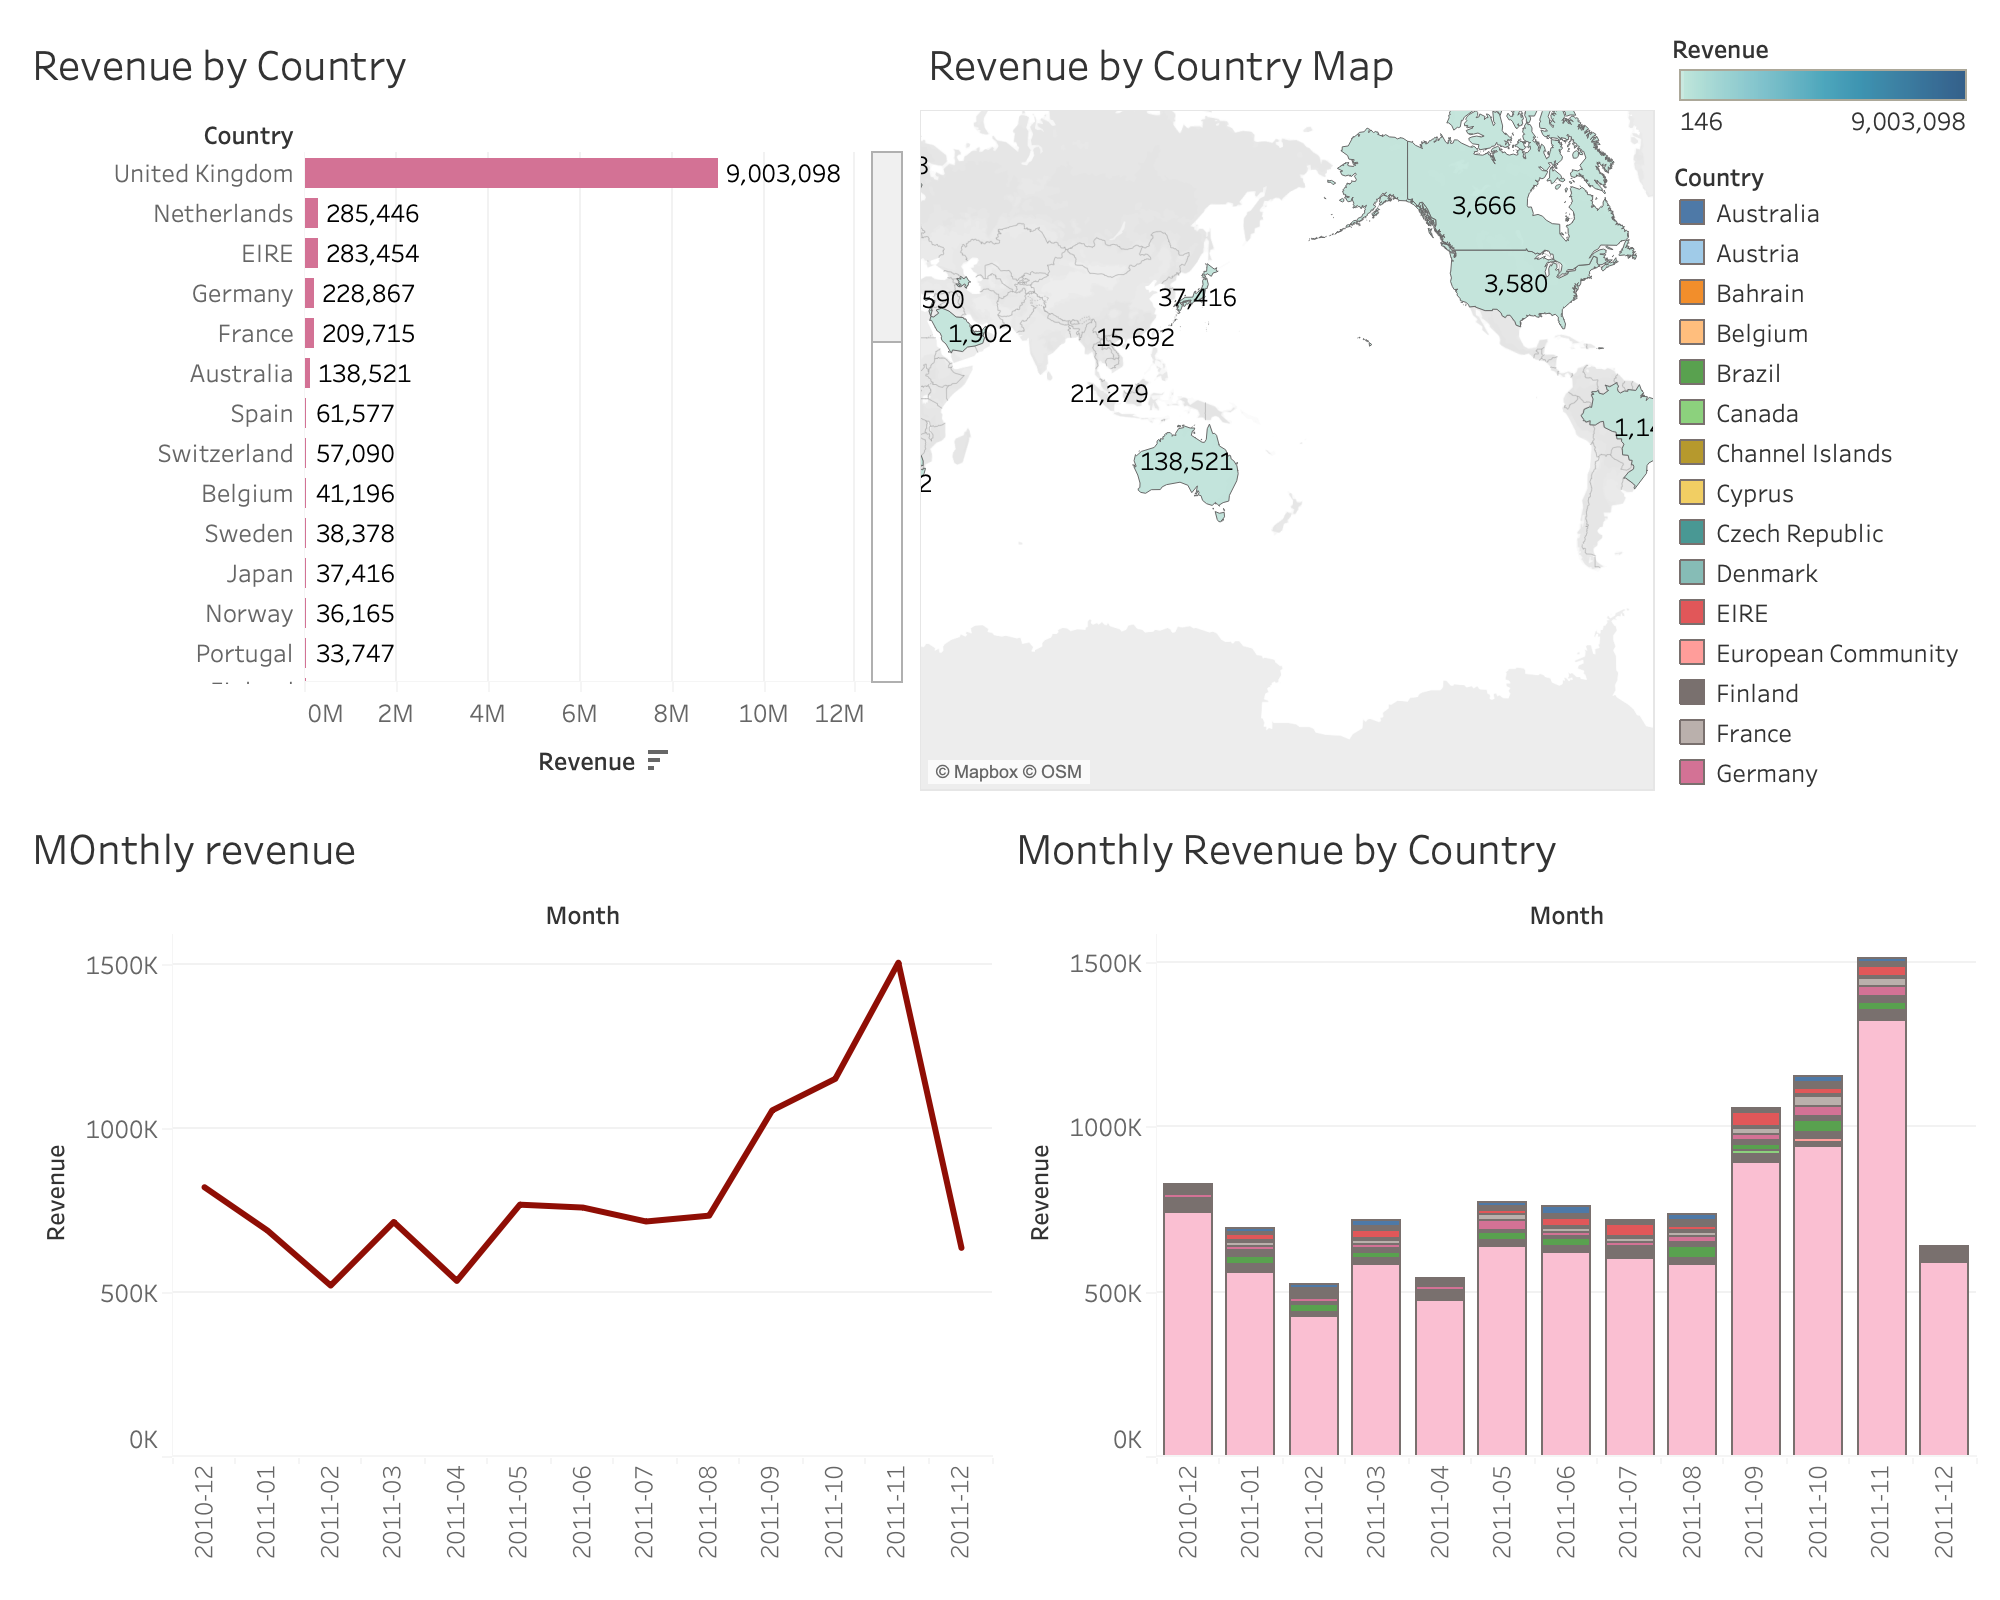

This screenshot's page, from the dashboard's own definition file:
{"tool":"tableau","page":{"name":"Geographic Dashboard","canvas":[1000,800],"ordinal":0},"visuals":[{"type":"worksheet","title":"Revenue by Country","mark":"Automatic","rows":["Country"],"cols":["Revenue"],"box":[8,8,448,392]},{"type":"worksheet","title":"Revenue by Country Map","mark":"Automatic","box":[456,8,376,392]},{"type":"legend","title":"Revenue by Country Map","param":"[federated.1vjwjip0q28ymd10cvqnw0tj5vmx].[sum:Revenue:qk]","box":[832,8,160,65]},{"type":"legend","title":"Monthly Revenue by Country","param":"[federated.1vjwjip0q28ymd10cvqnw0tj5vmx].[none:Country:nk]","box":[832,73,160,327]},{"type":"worksheet","title":"MOnthly revenue","mark":"Line","rows":["Revenue"],"cols":["Month"],"box":[8,400,492,392]},{"type":"worksheet","title":"Monthly Revenue by Country","mark":"Automatic","rows":["Revenue"],"cols":["Month"],"box":[500,400,492,392]}]}

Visuals, with their boxes in screenshot pixels (x1, y1, x2, y2), scaled from the page's 1000x800 canvas onto the 2000x1600 screenshot:
"Revenue by Country" worksheet: 16,16,912,800
"Revenue by Country Map" worksheet: 912,16,1664,800
"Revenue by Country Map" legend: 1664,16,1984,146
"Monthly Revenue by Country" legend: 1664,146,1984,800
"MOnthly revenue" worksheet (Line marks): 16,800,1000,1584
"Monthly Revenue by Country" worksheet: 1000,800,1984,1584
